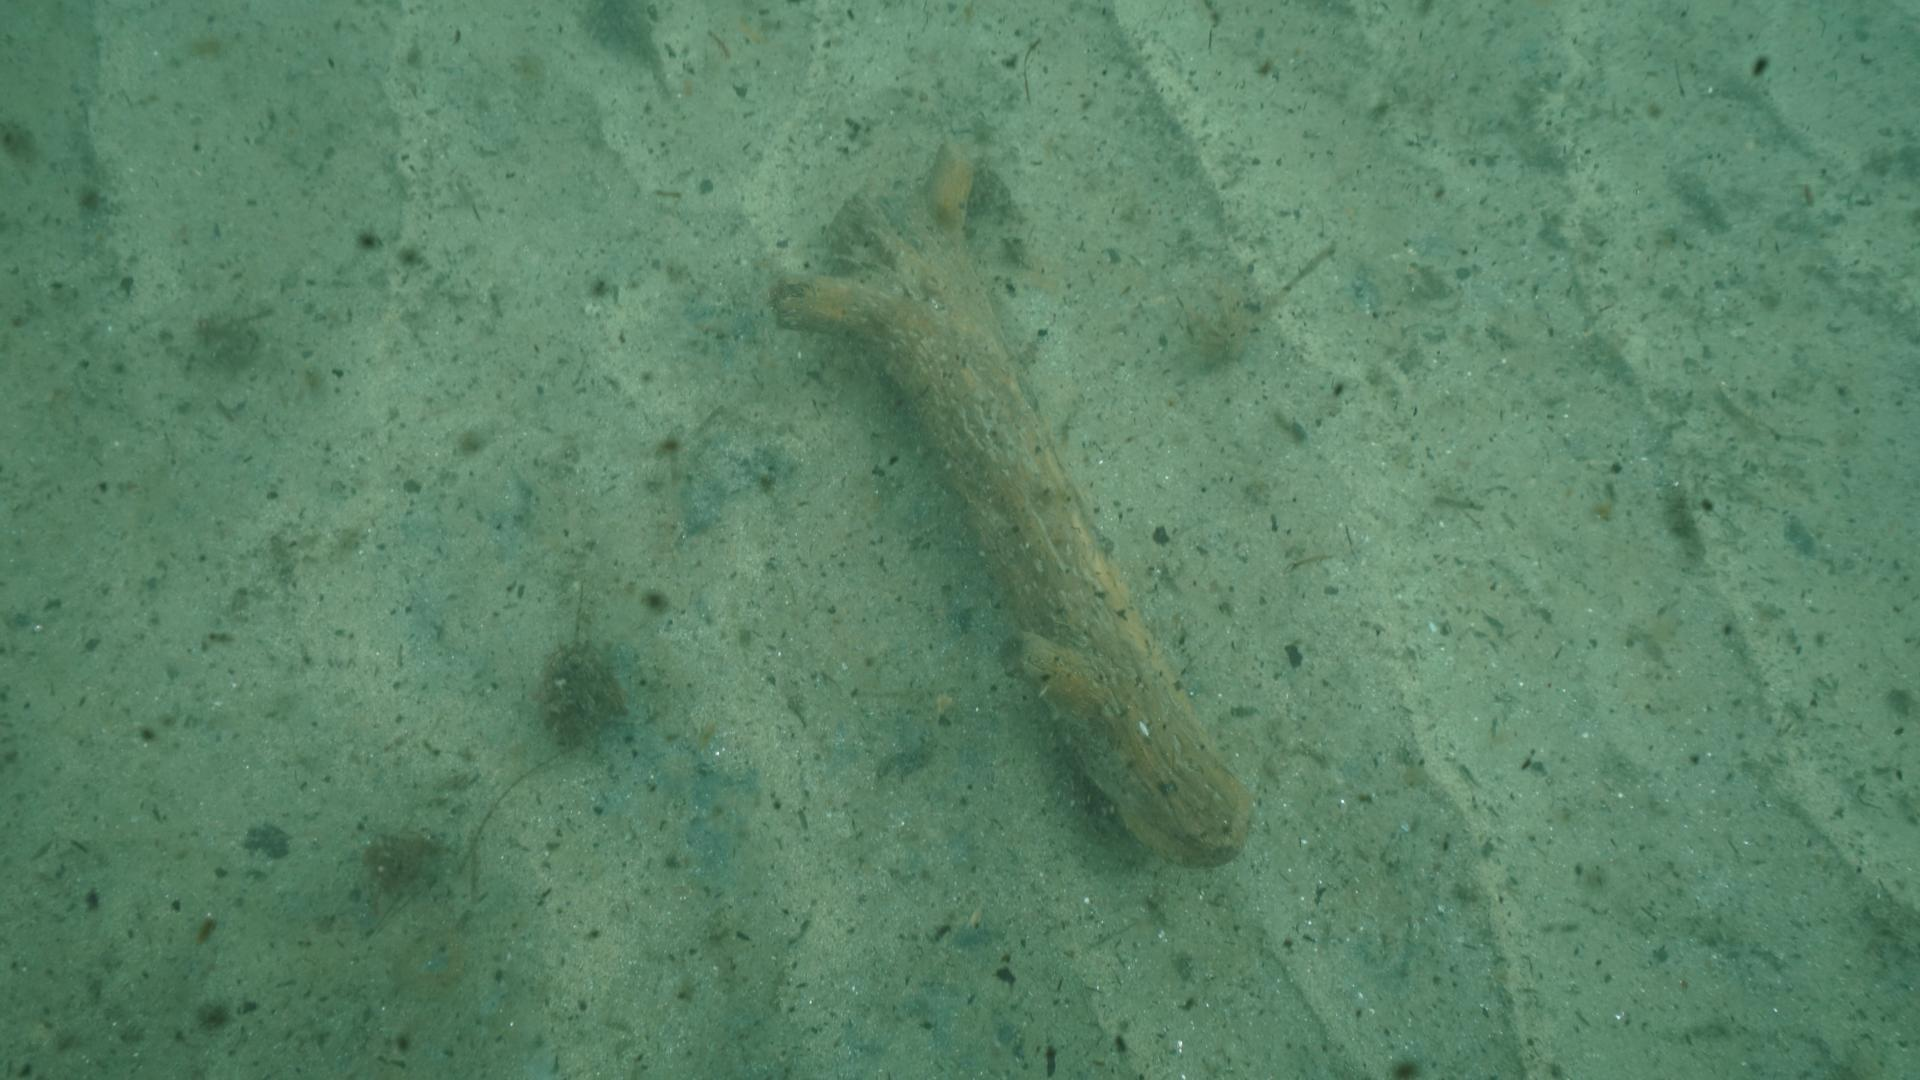wood: (764, 138, 1255, 870)
